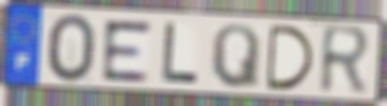D: (265, 23, 317, 93)
E: (101, 18, 154, 83)
L: (159, 21, 201, 87)
O: (46, 12, 99, 86)
Q: (209, 22, 262, 91)
R: (317, 23, 375, 98)
